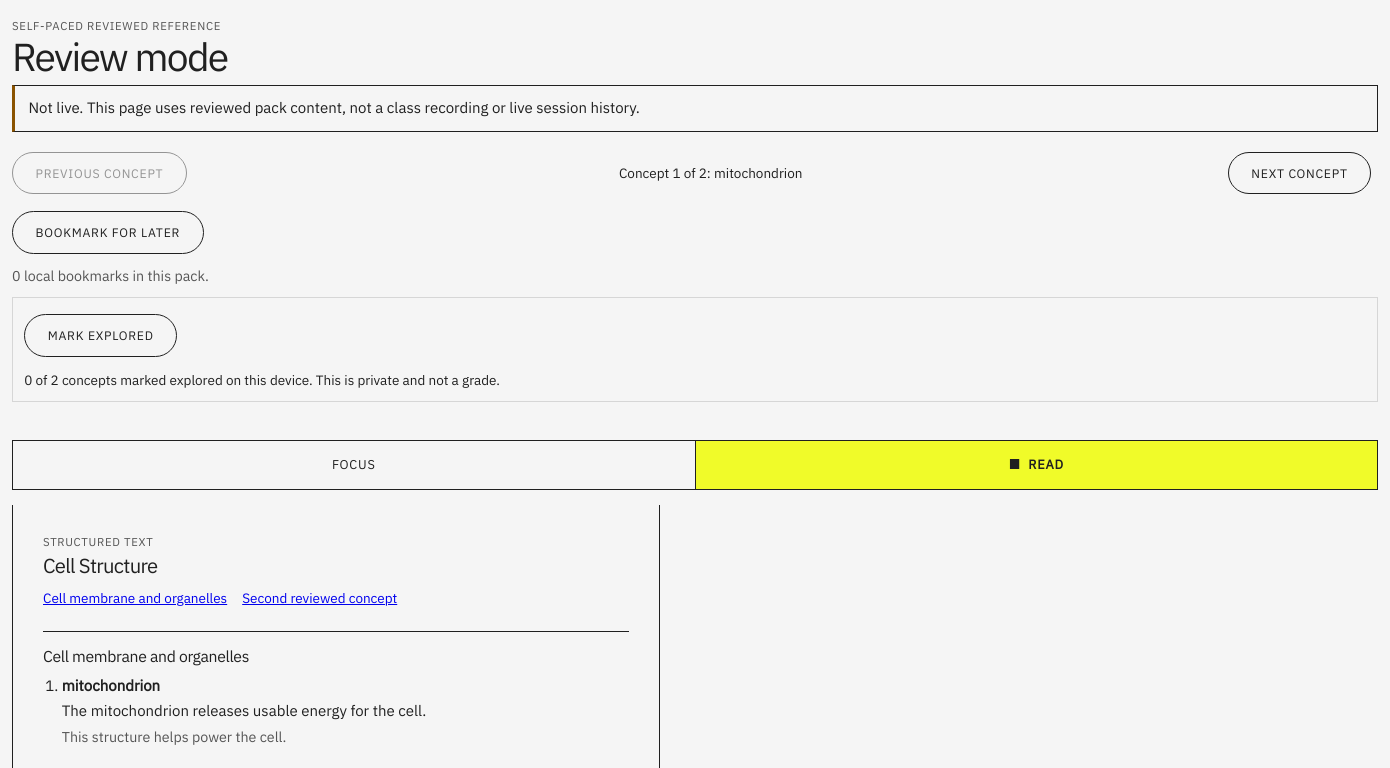
it: ReviewExperience › steps through reviewed concepts and saves a local bookmark
Click the button "Next concept": click(1300, 173) [1228, 152, 1371, 194]
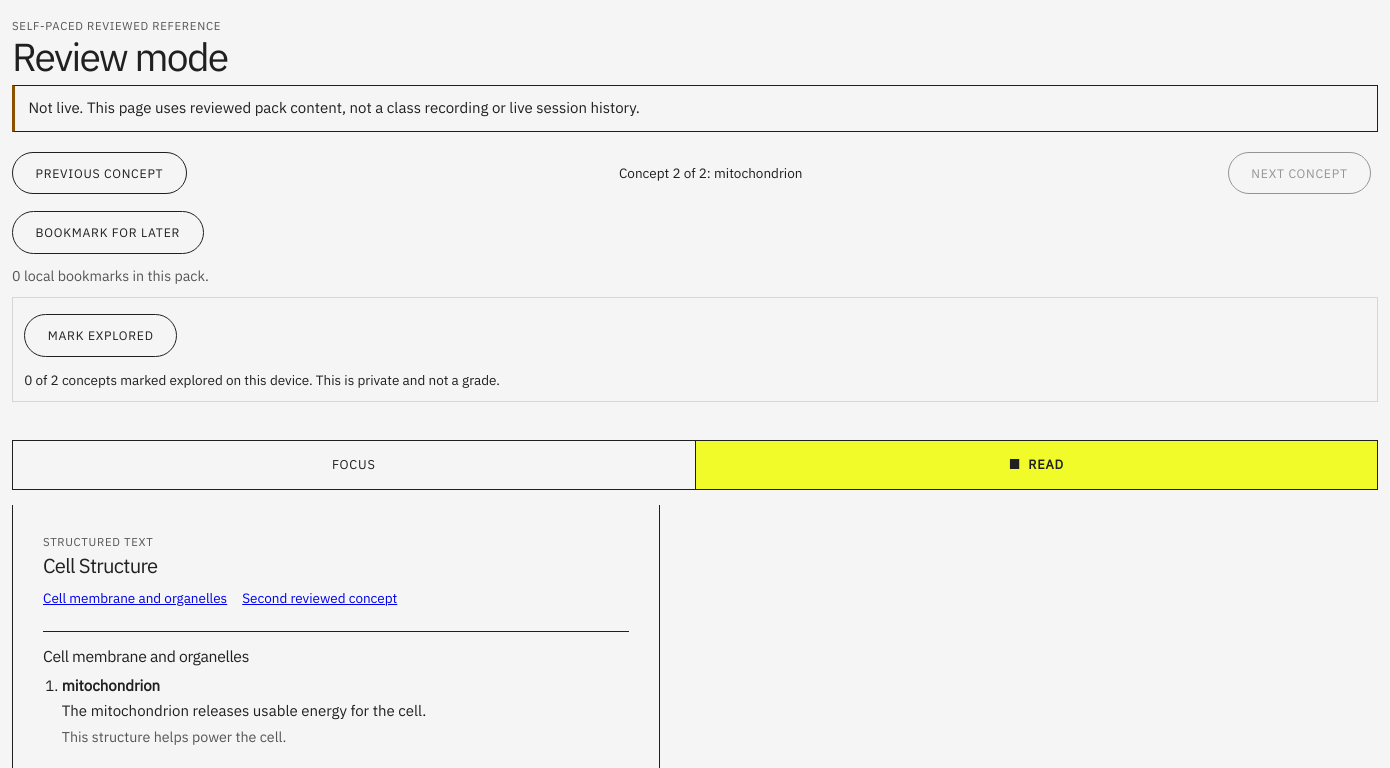
Click the button "Bookmark for later": click(108, 232) [12, 211, 204, 254]
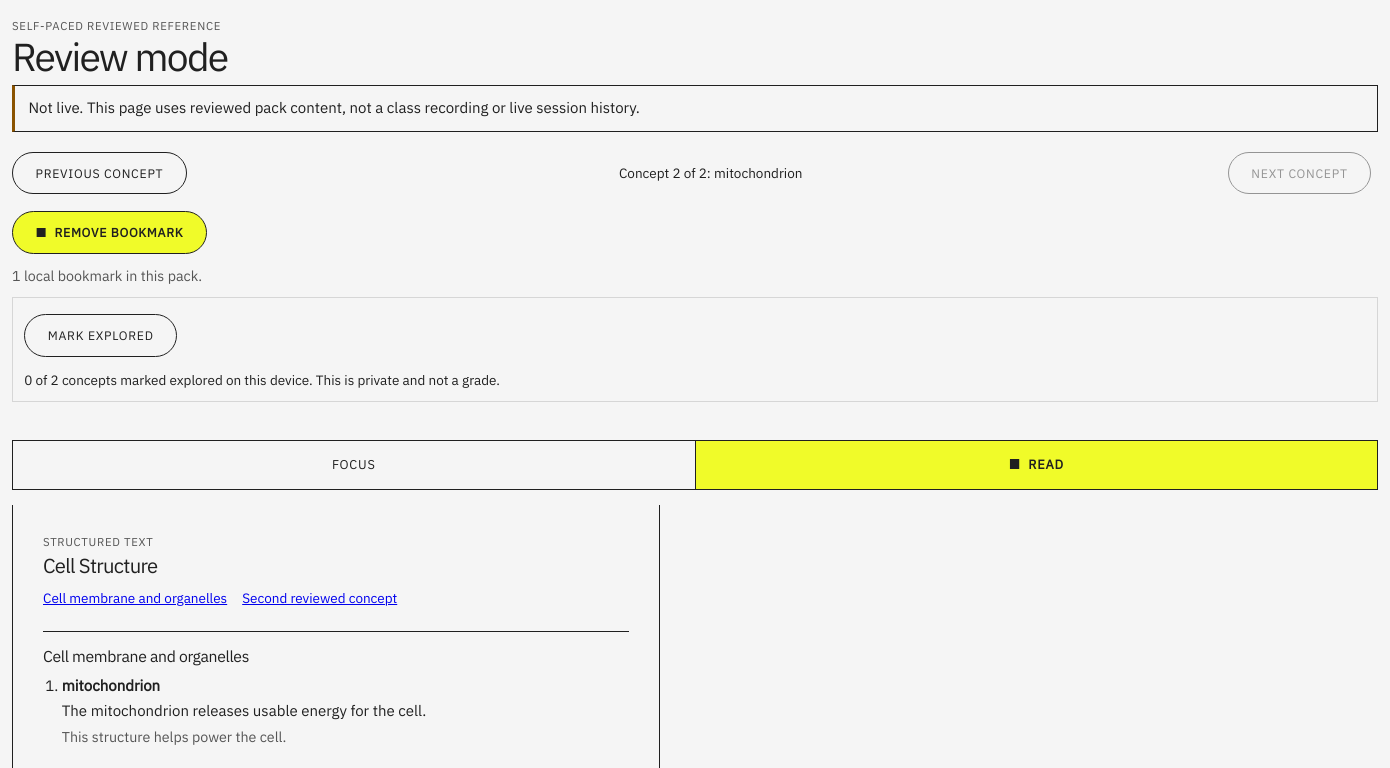
Expected: the text "1 local bookmark in this pack." is shown, [12, 266, 202, 285]
